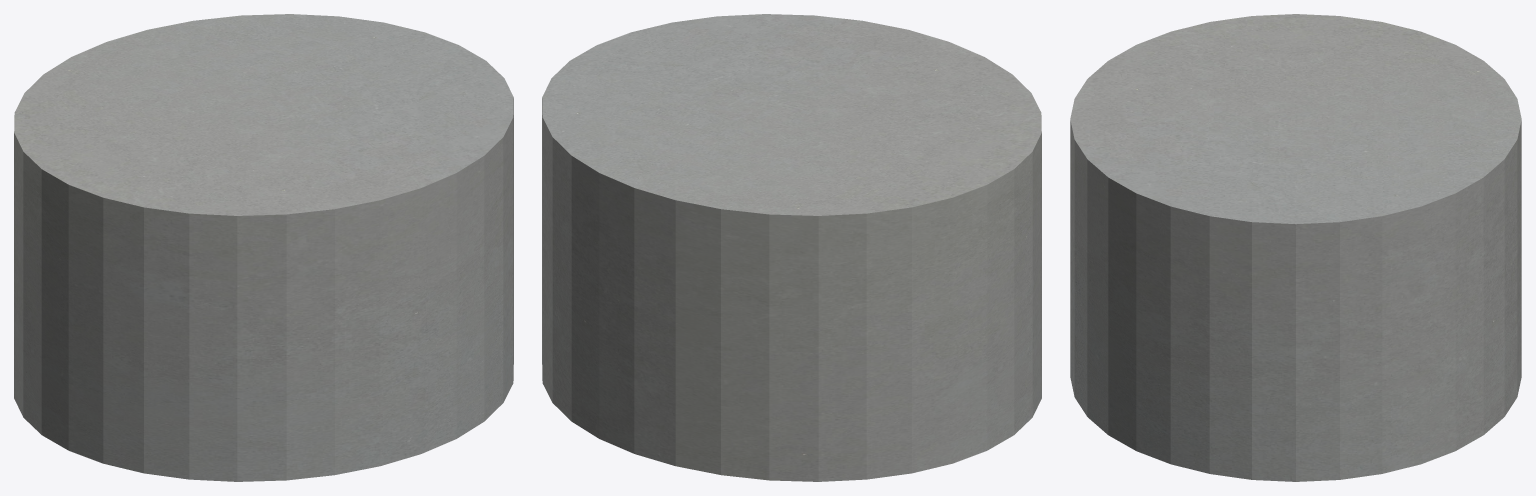
Rendered from sandWater.glb.
3 renders of one model, left to right at view 1: azimuth 30°, elevation 25°; view 2: azimuth 150°, elevation 25°; view 3: azimuth 270°, elevation 25°, orthographic. The views are drawn at different scales.
Visible parts, largest first — view 1: Cylinder; view 2: Cylinder; view 3: Cylinder.
Part boxes in pixels (x1,y1,x2,y2): Cylinder: [14, 14, 513, 481]; Cylinder: [542, 14, 1041, 481]; Cylinder: [1070, 14, 1521, 481].
Size of the model in its own units: 0.1345 by 0.0769 by 0.1221.
1 material, 1 textured.
